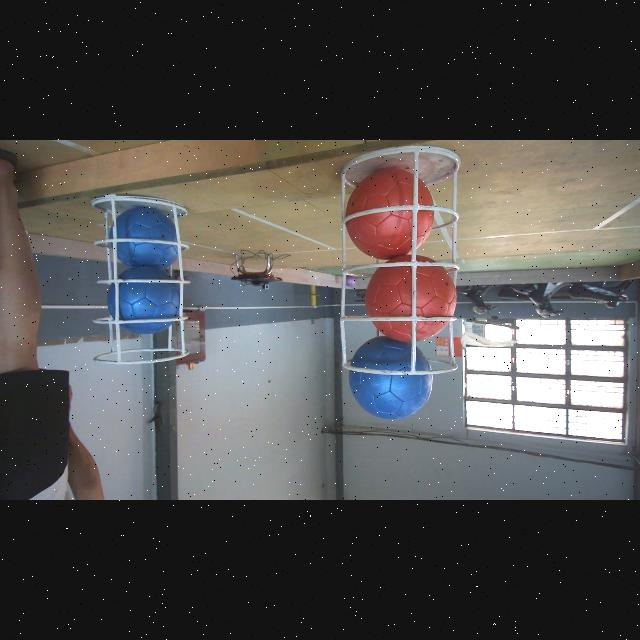B: (344, 338, 434, 420), (106, 264, 184, 334), (108, 198, 182, 268)
R: (342, 164, 434, 254), (363, 257, 453, 341)
